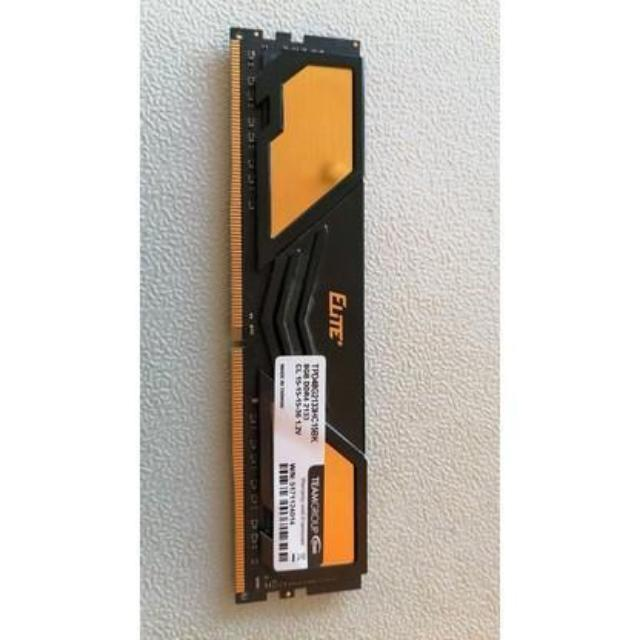RAM: (216, 13, 382, 604)
